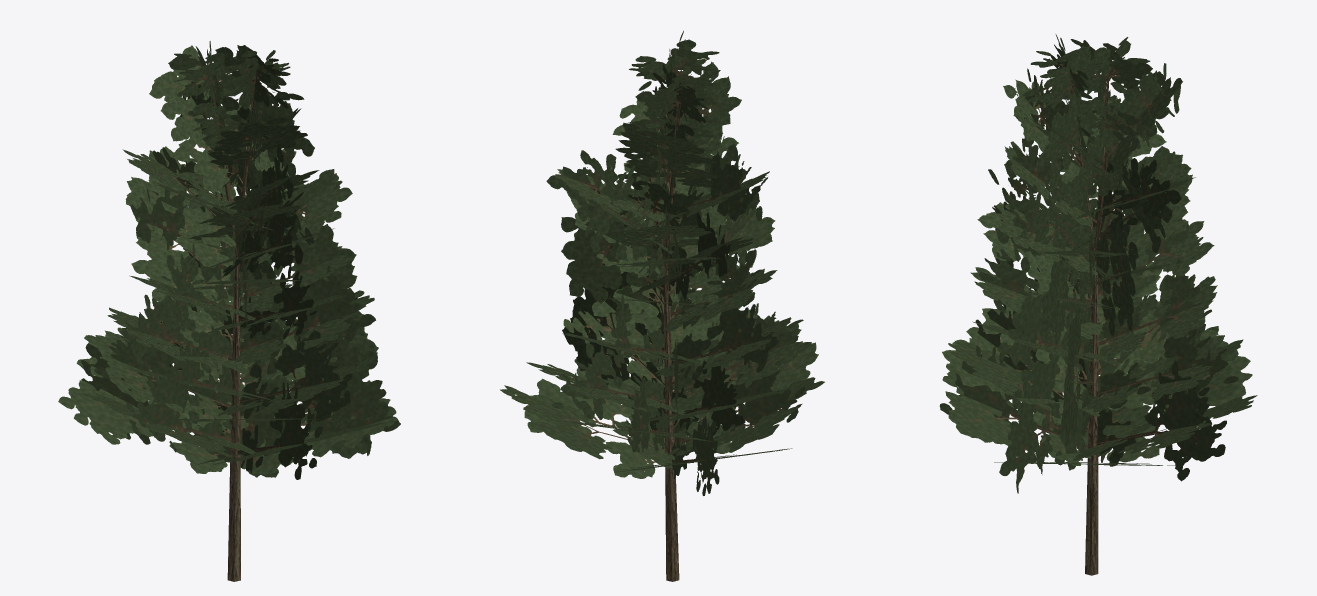
Rendered from tree-02.glb.
The picture shows the model from 3 angles, left to right: view 1: azimuth 30°, elevation 25°; view 2: azimuth 150°, elevation 25°; view 3: azimuth 270°, elevation 25°; orthographic projection. The views are drawn at different scales.
Visible parts, largest first — view 1: Tilia_europaea_50y_02_LoD2A_summer_obj0_trunk; view 2: Tilia_europaea_50y_02_LoD2A_summer_obj0_trunk; view 3: Tilia_europaea_50y_02_LoD2A_summer_obj0_trunk.
Part boxes in pixels (x1,y1,x2,y2): Tilia_europaea_50y_02_LoD2A_summer_obj0_trunk: (58,41,400,581); Tilia_europaea_50y_02_LoD2A_summer_obj0_trunk: (500,30,824,581); Tilia_europaea_50y_02_LoD2A_summer_obj0_trunk: (939,34,1257,575).
Bounding box in the file's own units: 9.12 × 13.2 × 8.94.
Materials: 1 (1 with a texture image).
